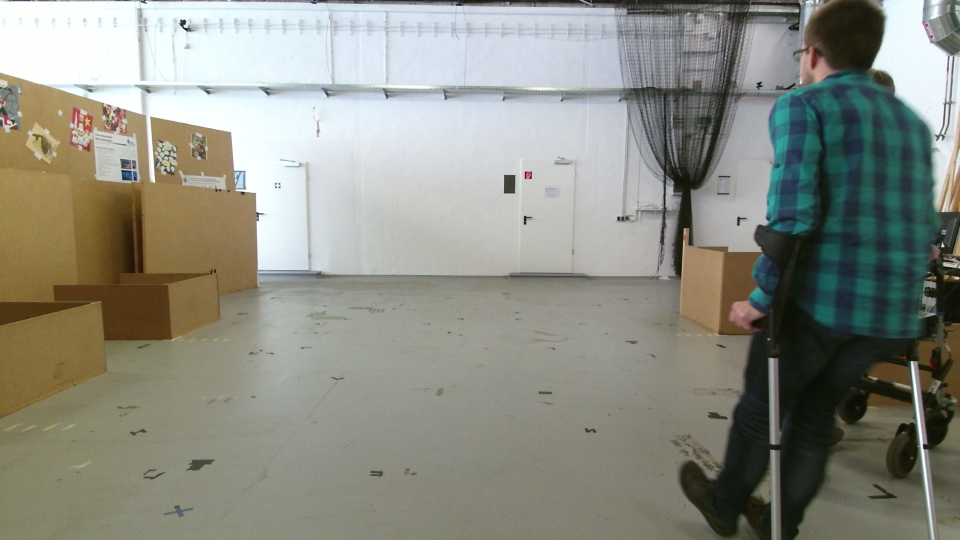crutches: (684, 1, 955, 540)
